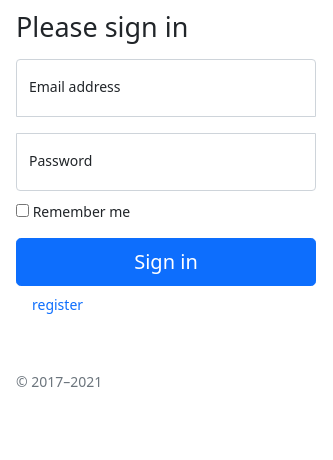
Test: login describe statement › email input should accept text
The width and height of the screenshot is (333, 460).
Type "testing" into the field named "email" at (166, 88), box left=16, top=59, right=316, bottom=117
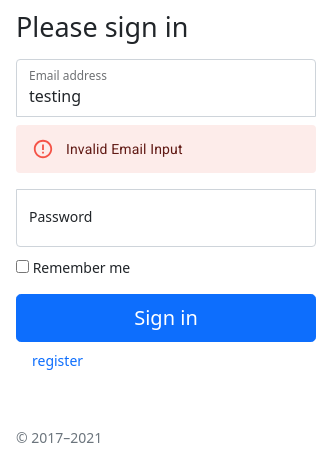
Expected: the text "Invalid Email Input" is shown, left=66, top=141, right=183, bottom=157
Replace the text in the field named "email" with "testing@gmail.com" at (166, 88), box left=16, top=59, right=316, bottom=117
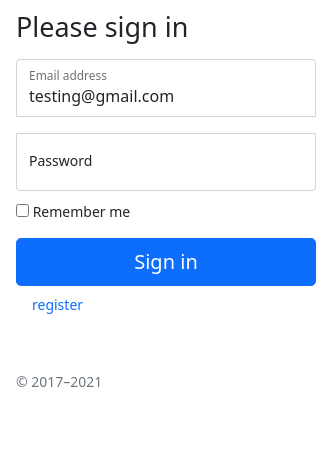
Expected: the text "Invalid Email Input" is gone
